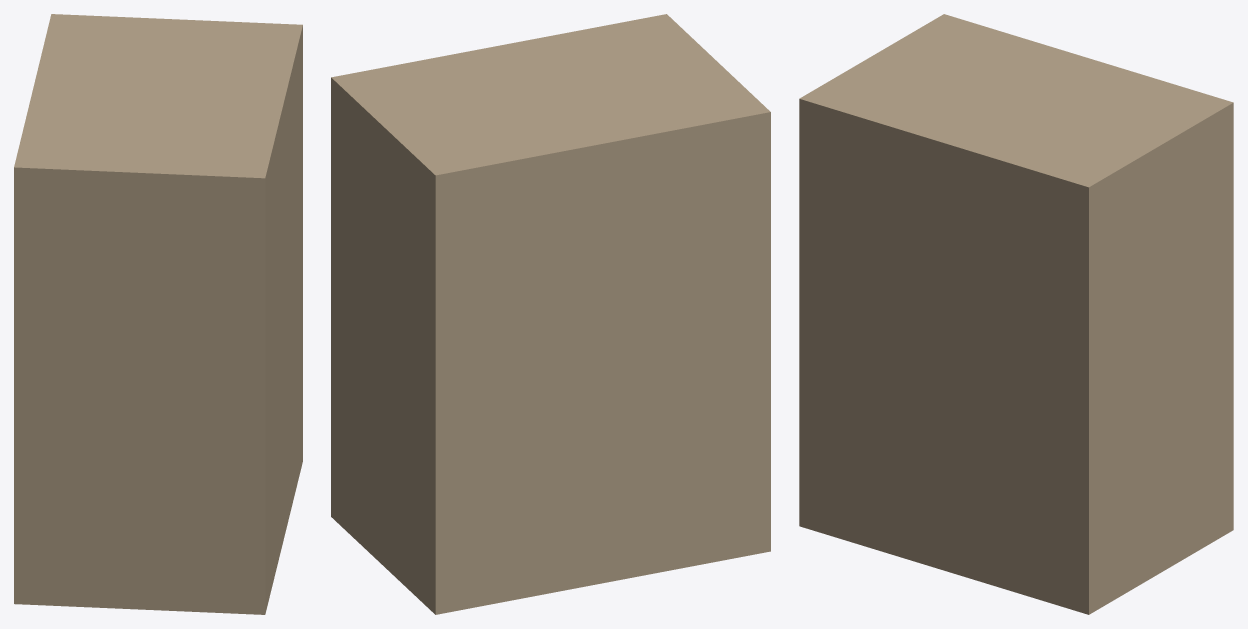
File: bld_163484216.dae
3 renders of one model, left to right at view 1: azimuth 30°, elevation 25°; view 2: azimuth 150°, elevation 25°; view 3: azimuth 270°, elevation 25°, orthographic. The views are drawn at different scales.
Parts seen in each view (by area): view 1: bld_163484216; view 2: bld_163484216; view 3: bld_163484216.
Boxes of the visible parts, bbox=[...] form: bld_163484216: bbox=[14, 14, 302, 614]; bld_163484216: bbox=[331, 14, 770, 614]; bld_163484216: bbox=[799, 14, 1233, 614].
Bounding box in the file's own units: 6.96 × 7.37 × 8.
